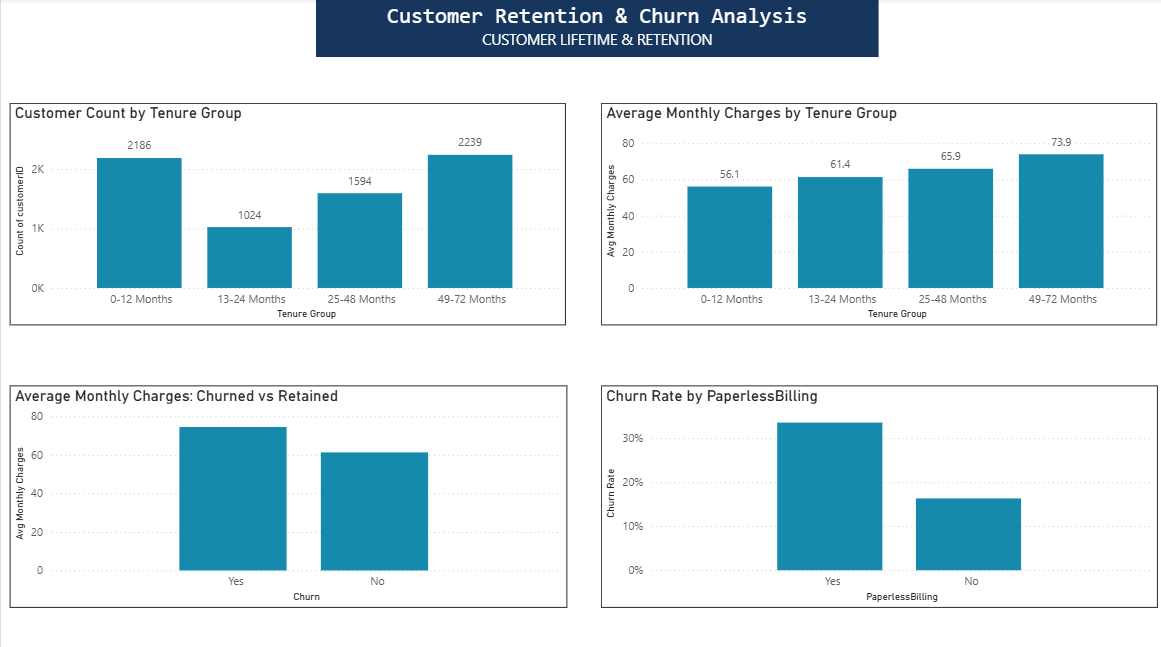

The dashboard page shown, as its layout file describes it:
{"tool":"powerbi","page":{"name":"Customer Lifetime & Retention","canvas":[1280,720],"ordinal":2},"visuals":[{"type":"textbox","box":[345.8,0,617.5,64.5],"z":0},{"type":"clusteredColumnChart","title":"Customer Count by Tenure Group","fields":{"Category":["cleaned_telco_churn.Tenure Group"],"Y":["CountNonNull(cleaned_telco_churn.customerID)"]},"box":[9.6,115.3,610.6,244.3],"z":1000},{"type":"clusteredColumnChart","title":"Average Monthly Charges by Tenure Group","fields":{"Category":["cleaned_telco_churn.Tenure Group"],"Y":["Avg(cleaned_telco_churn.MonthlyCharges)"]},"box":[658.7,115.3,610.6,244.3],"z":2000},{"type":"clusteredColumnChart","title":"Average Monthly Charges: Churned vs Retained","fields":{"Category":["cleaned_telco_churn.Churn"],"Y":["Avg(cleaned_telco_churn.MonthlyCharges)"]},"box":[9.6,425.4,612,244.3],"z":2001},{"type":"clusteredColumnChart","fields":{"Category":["cleaned_telco_churn.PaperlessBilling"],"Y":["cleaned_telco_churn.Churn Rate"]},"box":[659,425,611,244],"z":2002}]}

Visuals, with their boxes in screenshot pixels (x1, y1, x2, y2), scaled from the page's 1280x720 canvas onto the 1161x647 screenshot:
textbox: left=314, top=0, right=874, bottom=58
"Customer Count by Tenure Group" clusteredColumnChart: left=9, top=104, right=563, bottom=323
"Average Monthly Charges by Tenure Group" clusteredColumnChart: left=597, top=104, right=1151, bottom=323
"Average Monthly Charges: Churned vs Retained" clusteredColumnChart: left=9, top=382, right=564, bottom=602
clusteredColumnChart - cleaned_telco_churn.PaperlessBilling x cleaned_telco_churn.Churn Rate: left=598, top=382, right=1152, bottom=601
